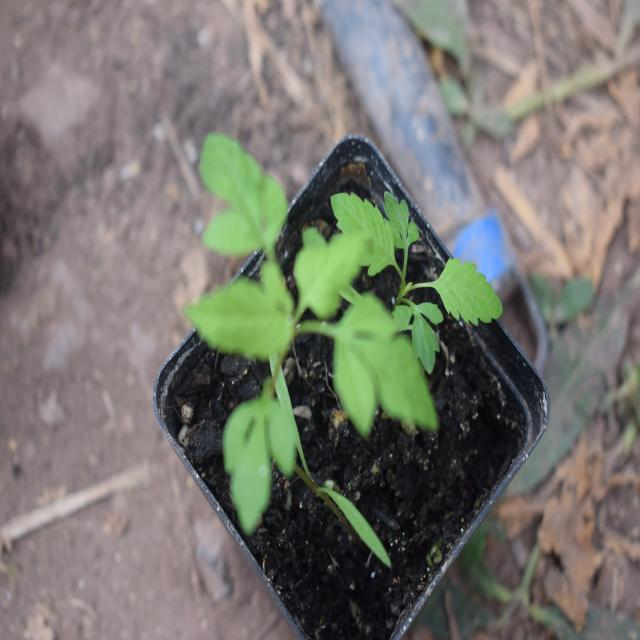Bidens pilosa: (325, 142, 509, 366)
